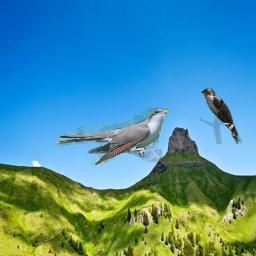Cuckoo: (56, 108, 168, 165), (200, 88, 243, 144)
